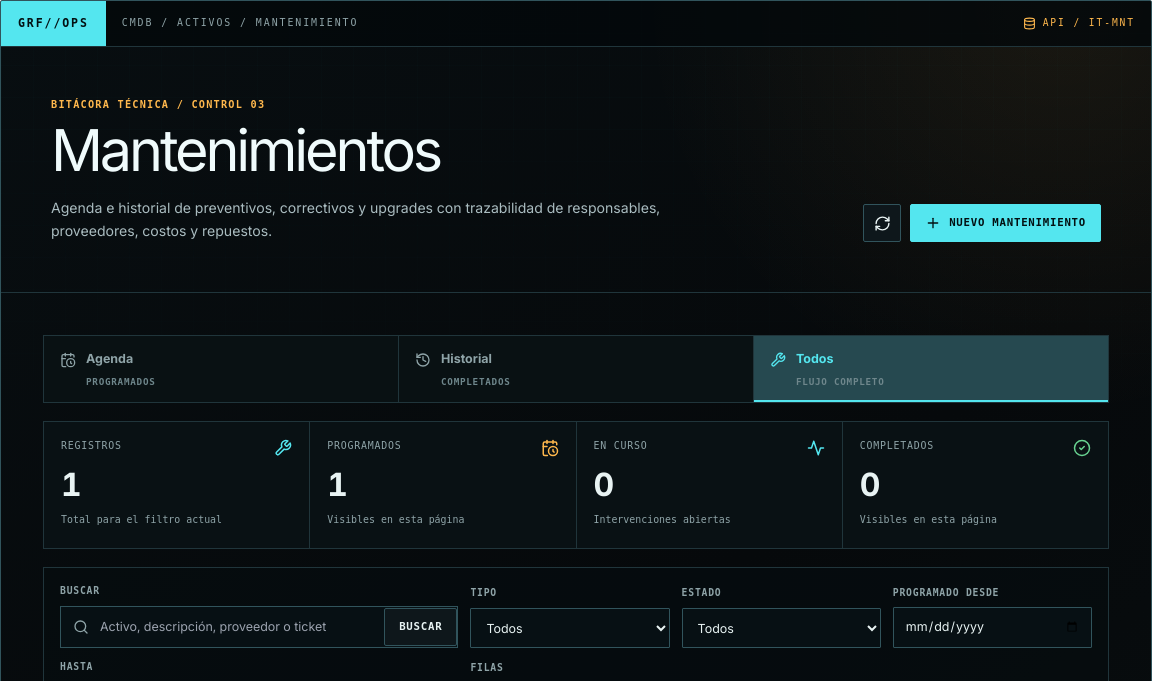
Test: ItMaintenancePage › busca activos remotamente sin precargar sólo los primeros cien
Click the button "Nuevo mantenimiento" at [1006, 223], box 910,204 -> 1101,242
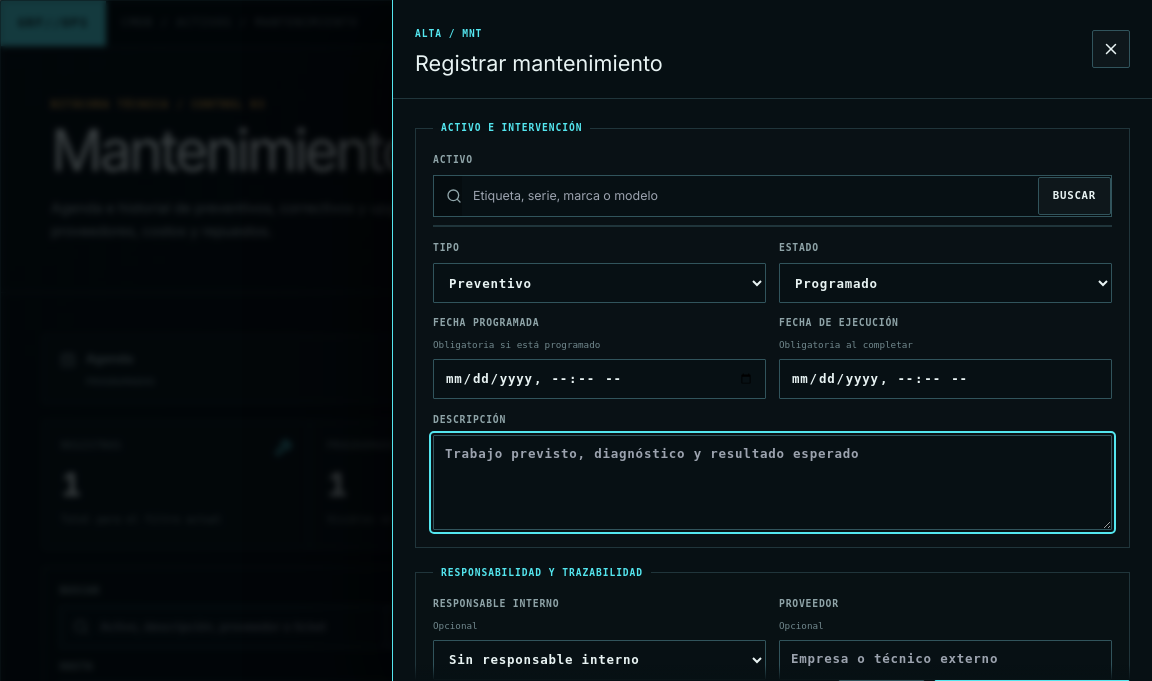
Type "NB-0042 Lenovo" into the search field labelled "Activo" at [750, 196], box 462,176 -> 1038,216
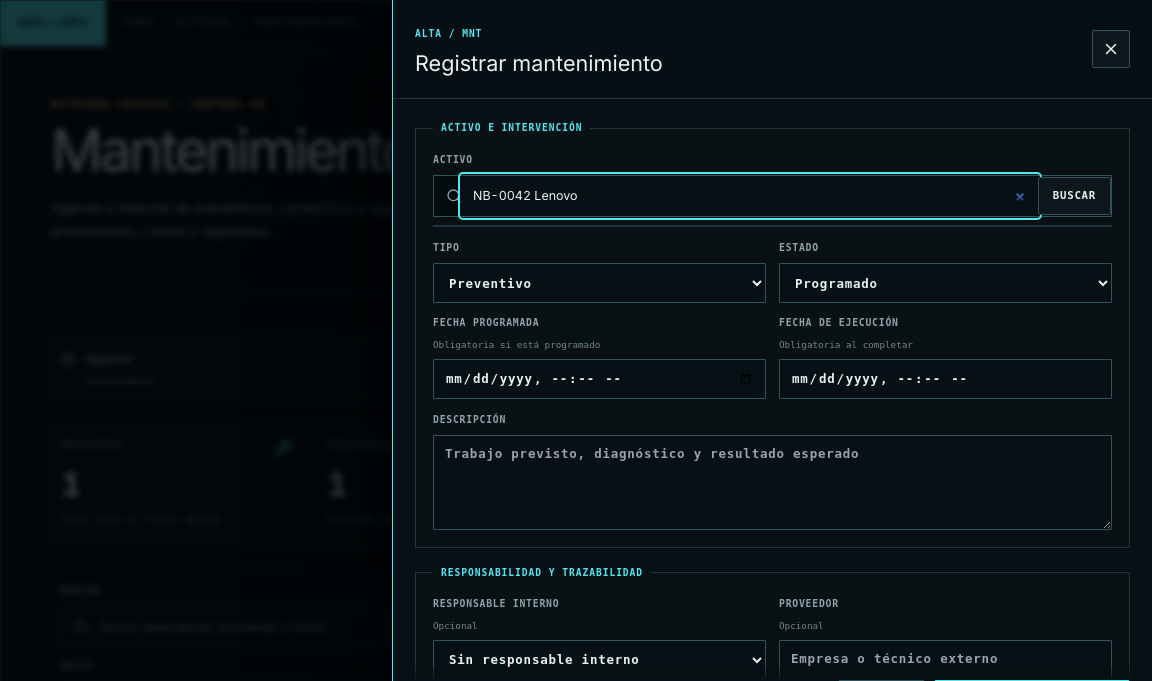
Click the button "Buscar" at [1074, 196], box 1038,177 -> 1111,215
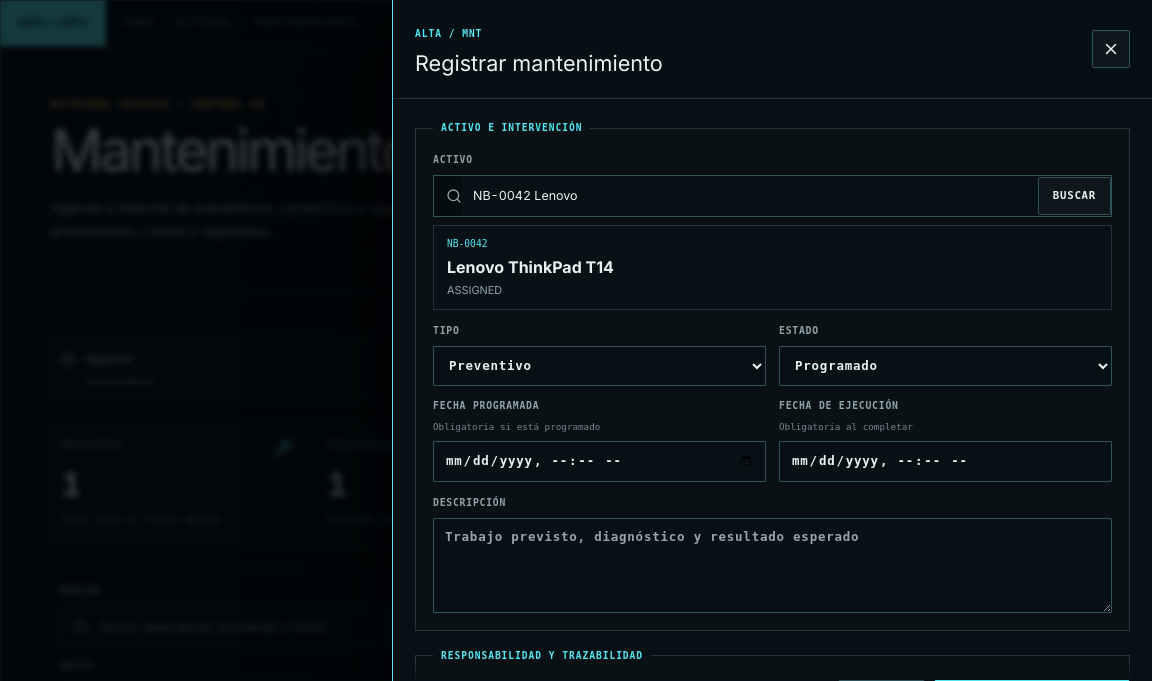
Now the button "NB-0042 Lenovo ThinkPad T14 ASSIGNED" is shown, box 434,226 -> 1111,309
